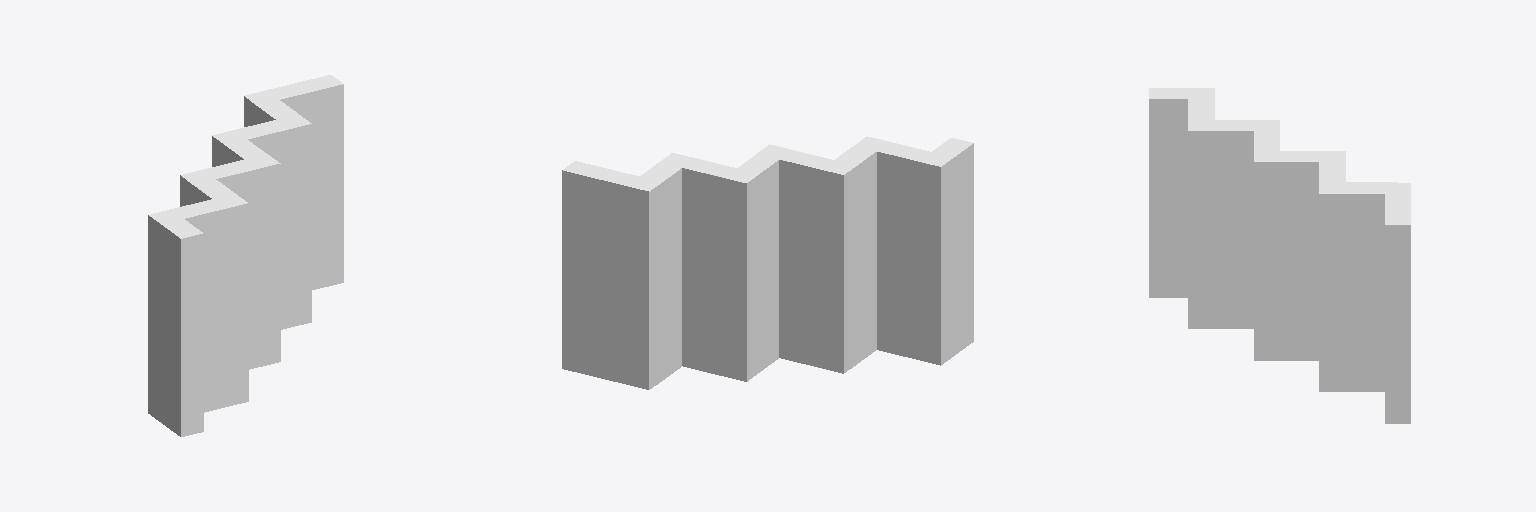
The model's file is Treppenstuffe4.obj.
3 views of the same model, side by side, from view 1: azimuth 30°, elevation 25°; view 2: azimuth 150°, elevation 25°; view 3: azimuth 270°, elevation 25° (orthographic).
Visible parts, largest first — view 1: wall_2_10, wall_1_3, wall_4_22, wall_9_52, wall_7_40, wall_1_4; view 2: wall_9_51, wall_4_21, wall_7_39, wall_2_9, wall_1_3, wall_6_33, wall_5_27, wall_10_57, wall_8_45, wall_3_15; view 3: wall_3_16, wall_8_46, wall_1_4, wall_6_34, wall_2_10, wall_7_40, wall_4_21, wall_4_22, wall_9_51, wall_9_52, wall_2_9, wall_7_39.
Part boxes in pixels (x1,y1,x2,y2): wall_2_10: (185,203,248,412); wall_1_3: (148,215,191,436); wall_4_22: (216,164,280,369); wall_9_52: (280,84,343,289); wall_7_40: (248,124,311,329); wall_1_4: (192,233,203,434); wall_9_51: (562,170,648,389); wall_4_21: (779,160,843,373); wall_7_39: (682,168,746,381); wall_2_9: (877,152,940,365); wall_1_3: (941,143,973,364); wall_6_33: (747,160,778,381); wall_5_27: (850,152,876,368); wall_10_57: (656,168,681,384); wall_8_45: (649,187,655,389); wall_3_15: (844,171,849,372); wall_3_16: (1214,131,1253,328); wall_8_46: (1345,194,1384,391); wall_1_4: (1149,99,1187,297); wall_6_34: (1280,162,1318,360); wall_2_10: (1188,131,1201,328); wall_7_40: (1319,194,1332,391); wall_4_21: (1267,162,1279,360); wall_4_22: (1254,162,1266,360); wall_9_51: (1398,225,1410,423); wall_9_52: (1385,225,1397,423); wall_2_9: (1202,131,1213,328); wall_7_39: (1333,194,1344,391).
Size of the model in its own units: 148 by 100 by 120.